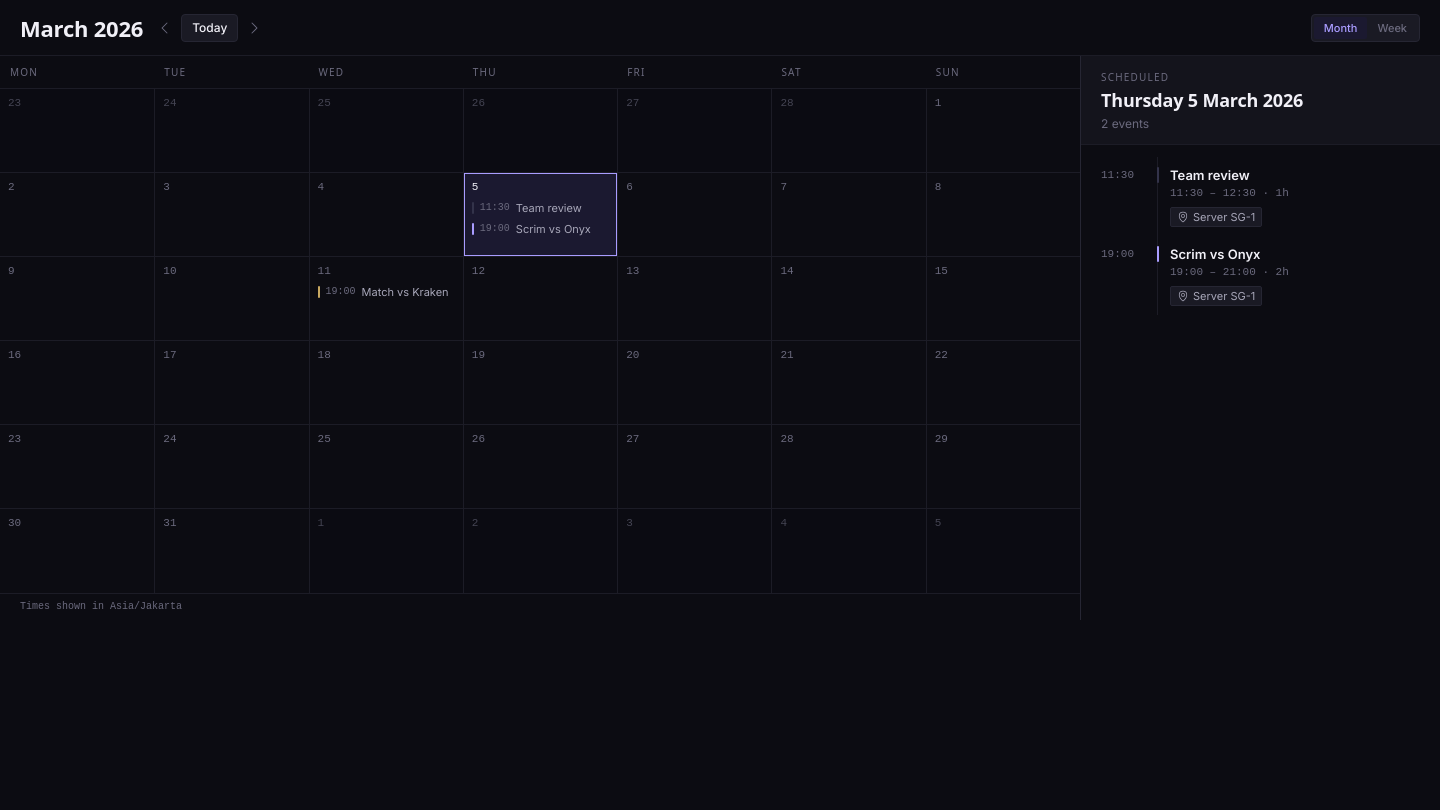
Scenario: an event › hides Edit and Delete from a reader who may not change it
The width and height of the screenshot is (1440, 810).
Click the button "Scrim vs Onyx 19:00 – 21:00 · 2h Server SG-1": (1288, 276) [1157,236,1420,315]
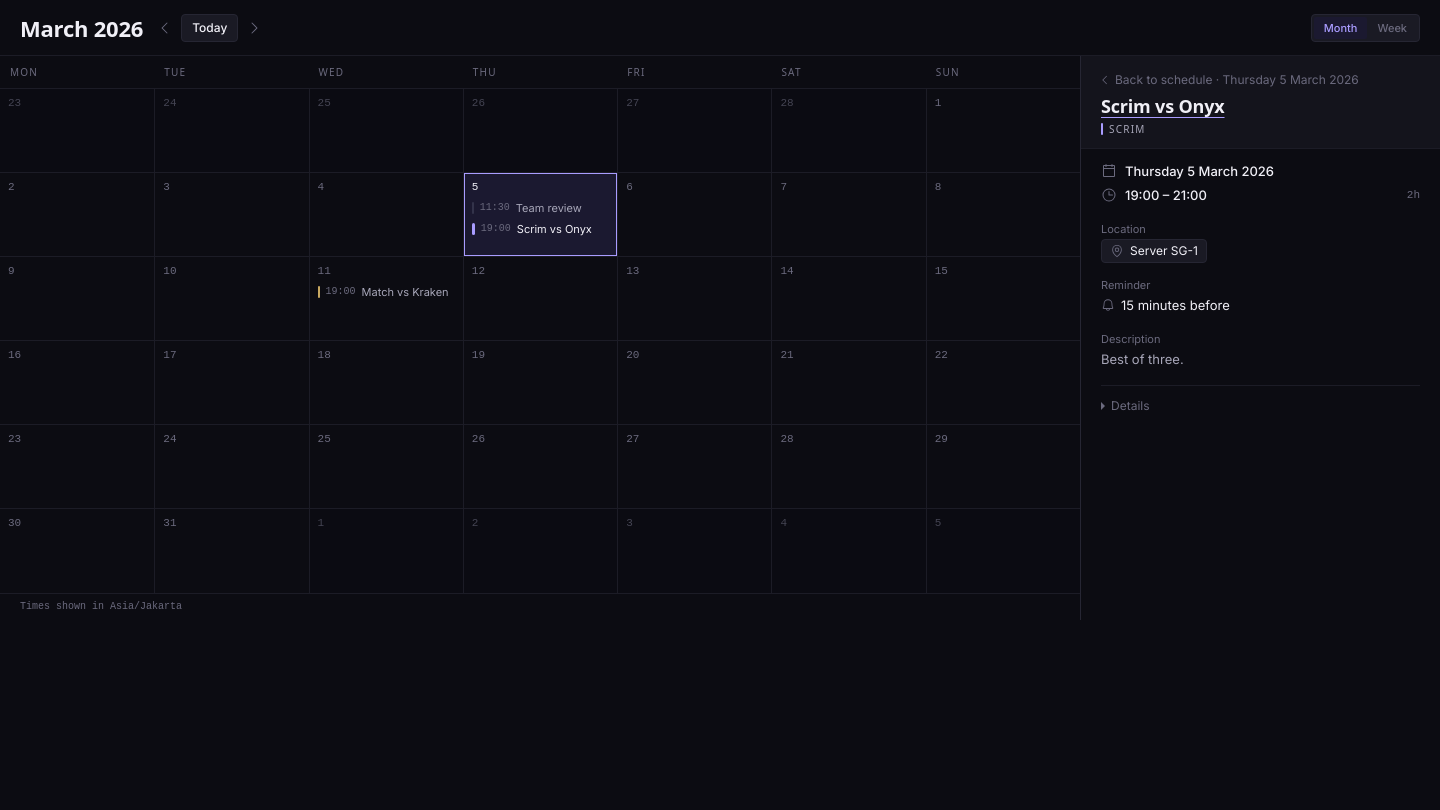
Now the heading "Scrim vs Onyx" is shown, box [1101,94,1224,118]
